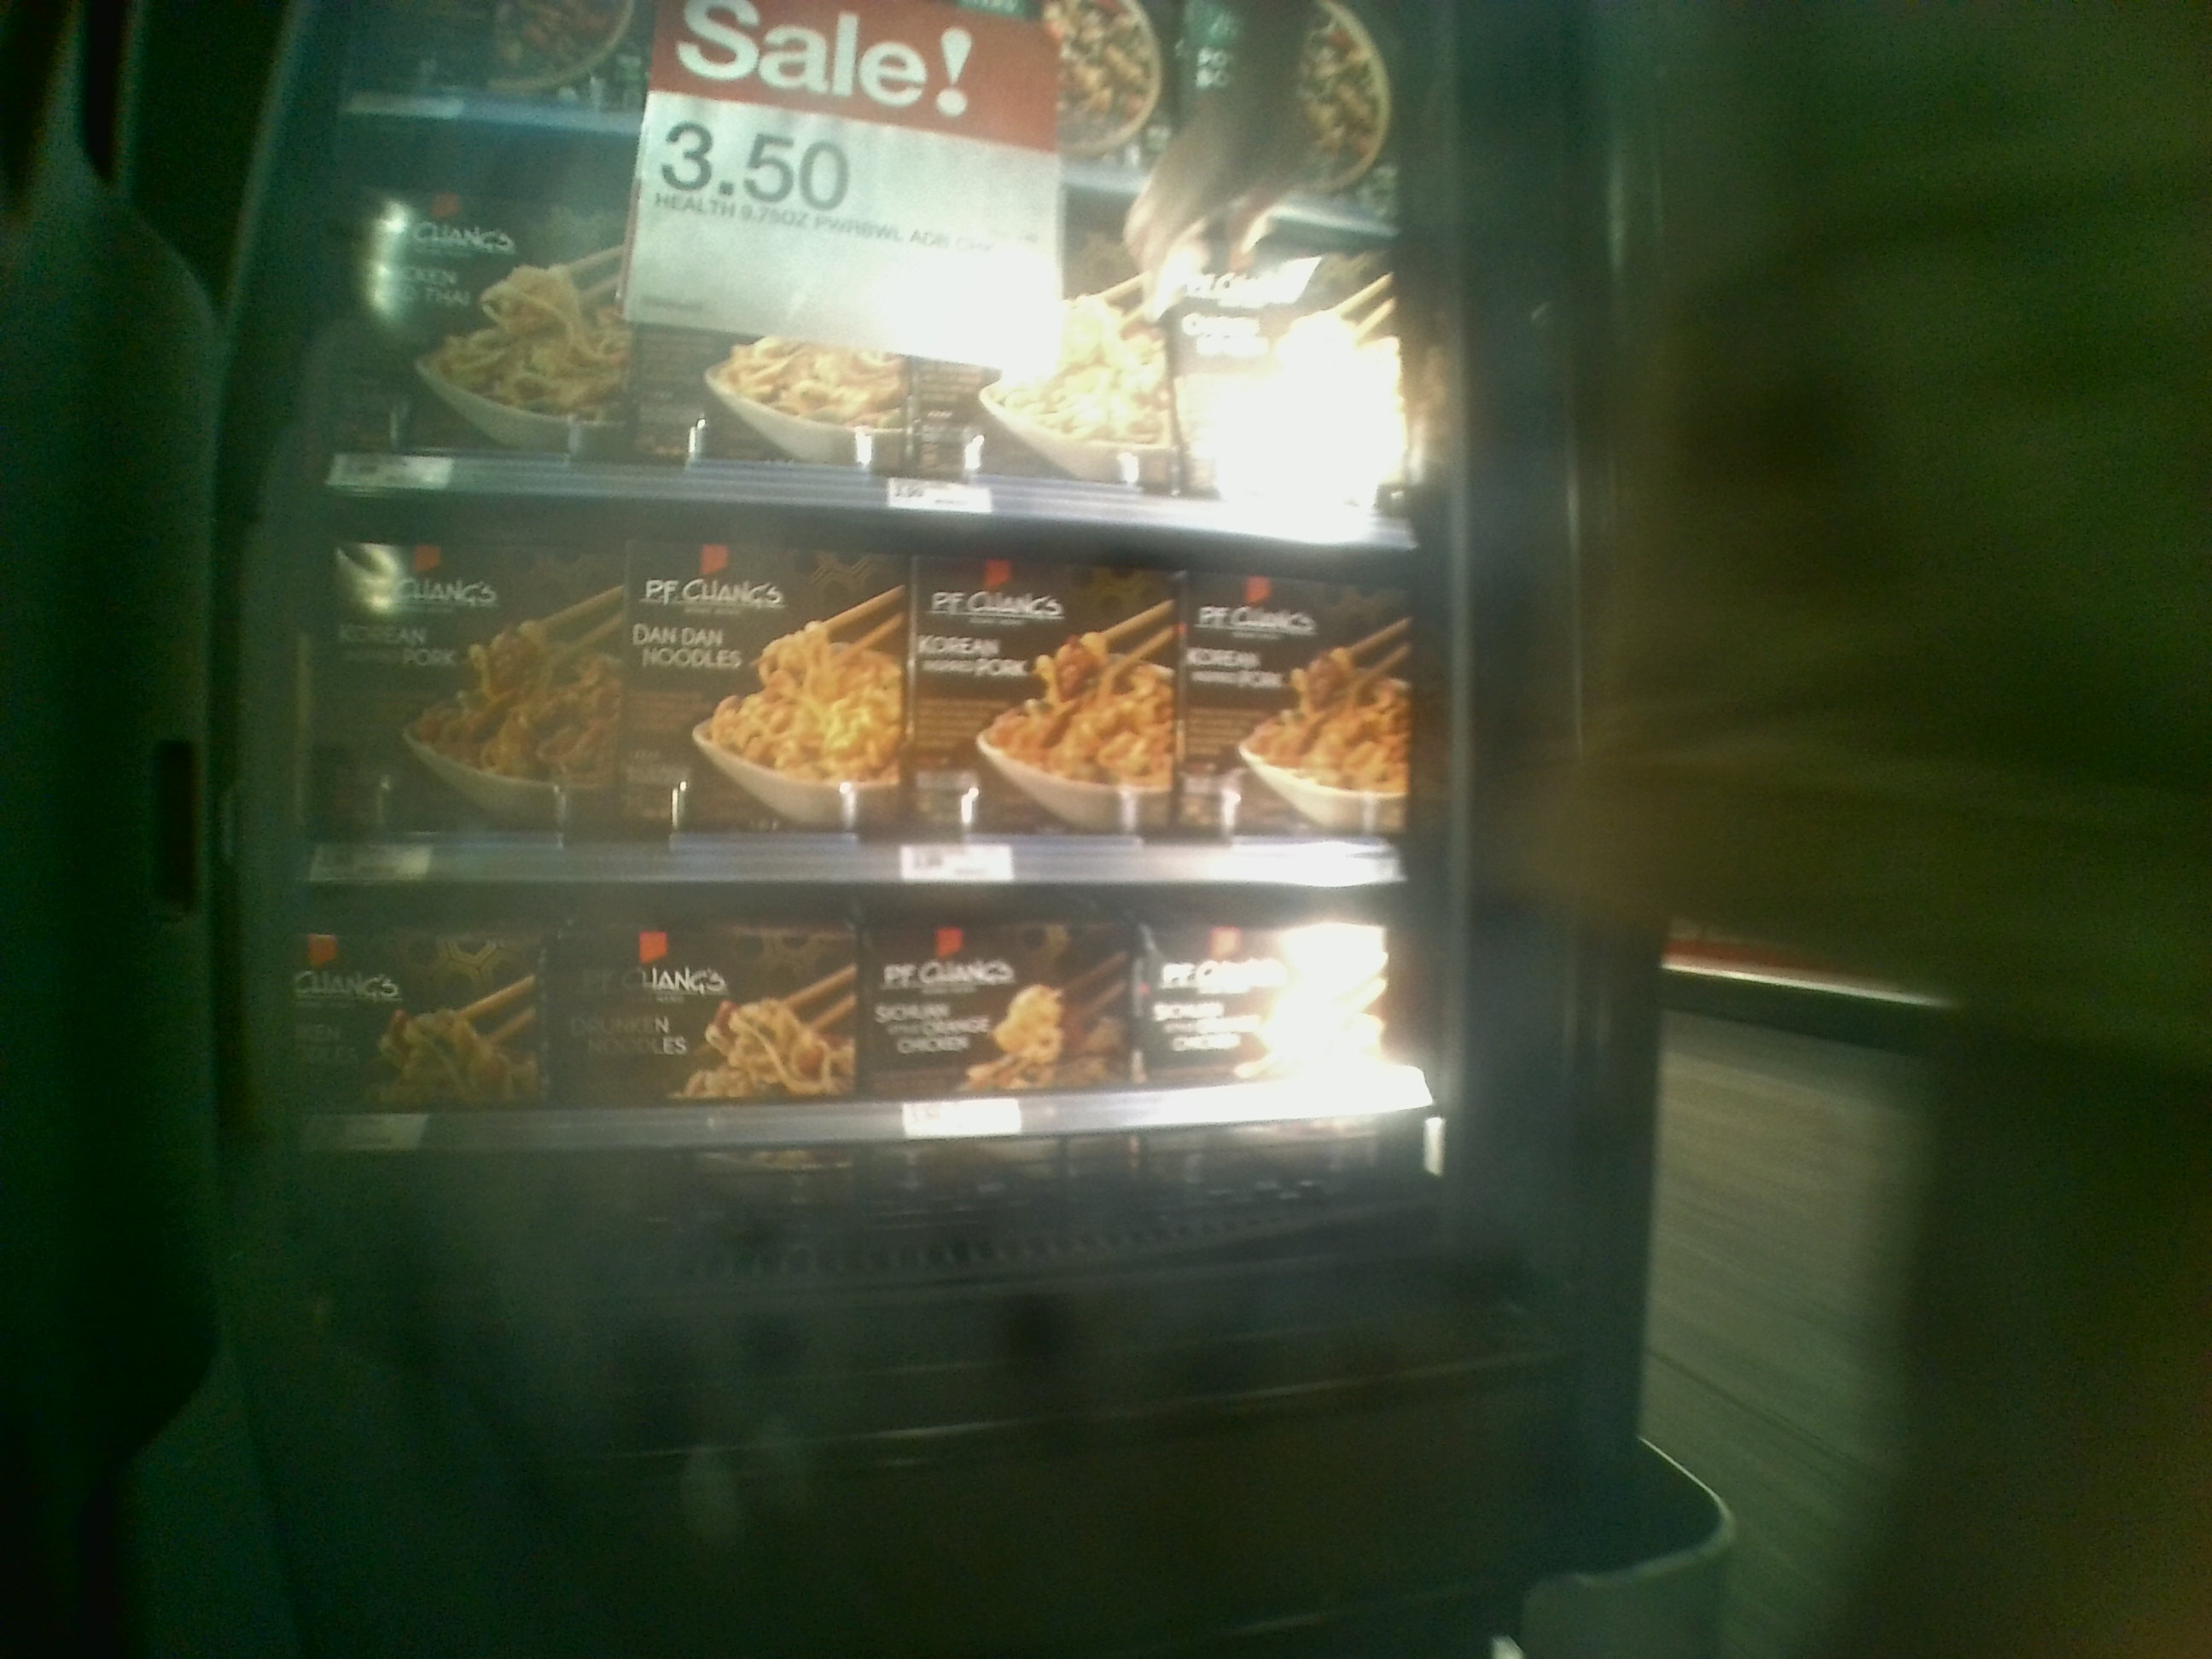shelf: (293, 870, 1458, 1297), (291, 472, 1437, 884)
